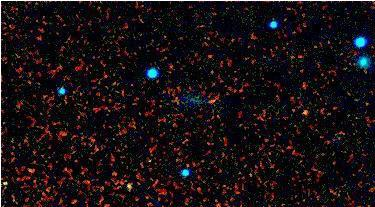star: (287, 97, 317, 127)
